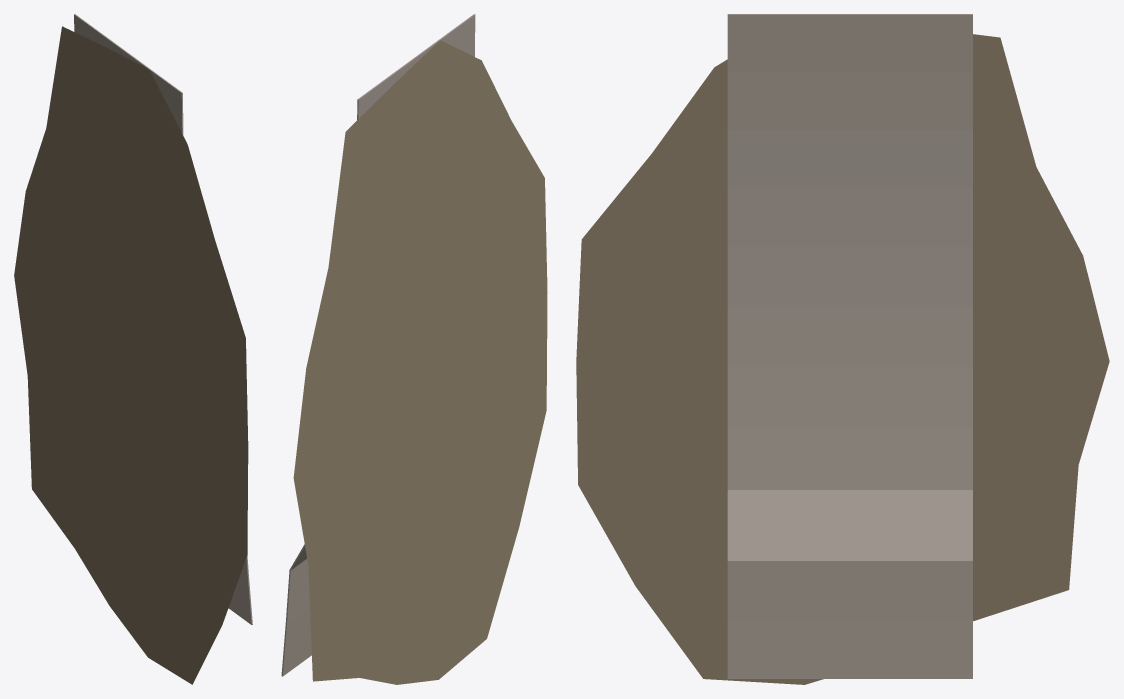
The model's file is wallpaper_peel.glb.
3 renders of one model, left to right at view 1: azimuth 30°, elevation 25°; view 2: azimuth 150°, elevation 25°; view 3: azimuth 270°, elevation 25°, orthographic. The views are drawn at different scales.
Visible parts, largest first — view 1: putz, streifen; view 2: putz, streifen; view 3: streifen, putz.
Boxes of the visible parts, bbox=[...] form: putz: bbox=[14, 26, 248, 684]; streifen: bbox=[74, 14, 252, 624]; putz: bbox=[293, 40, 547, 684]; streifen: bbox=[281, 14, 475, 676]; streifen: bbox=[727, 14, 972, 678]; putz: bbox=[576, 34, 1109, 684].
Size of the model in its own units: 0.122 by 0.9657 by 0.6957.
